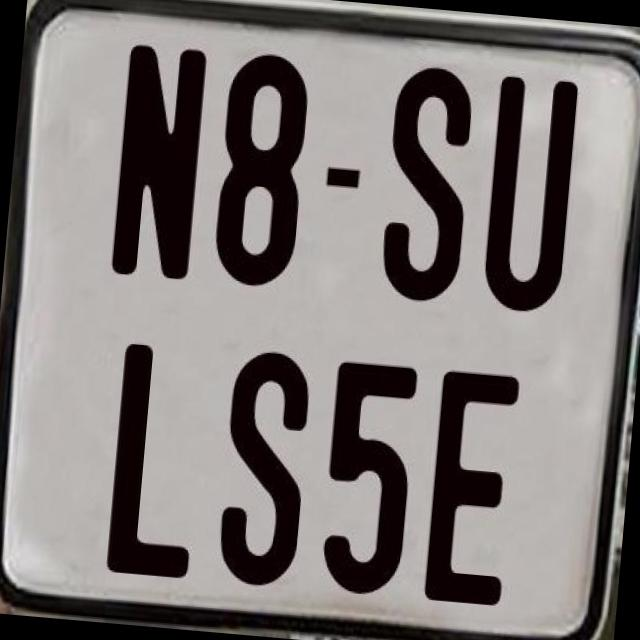5: (314, 356, 422, 594)
8: (207, 47, 310, 287)
E: (420, 367, 526, 608)
L: (104, 340, 205, 580)
N: (106, 40, 212, 286)
S: (214, 347, 318, 598), (376, 60, 474, 301)
U: (478, 74, 576, 314)
